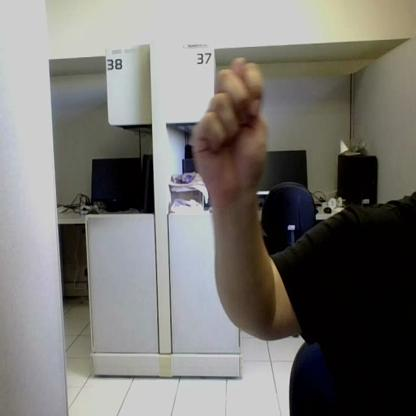T: (193, 58, 268, 194)
